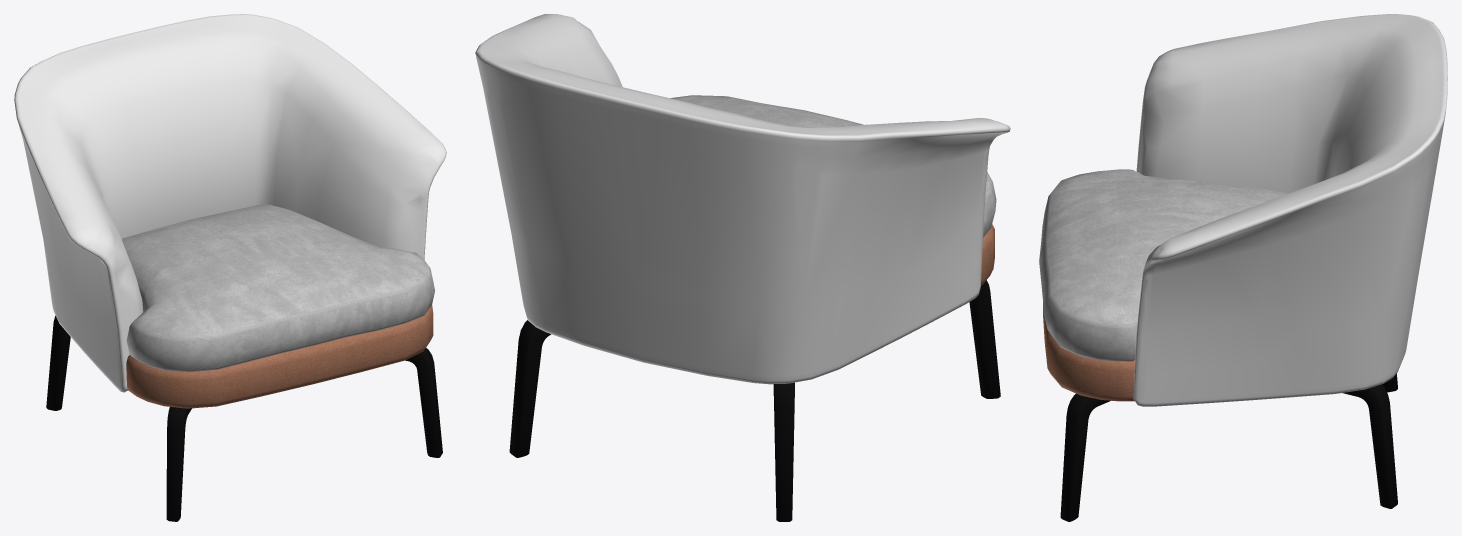
Rendered from single sofa.FBX.
3 renders of one model, left to right at view 1: azimuth 30°, elevation 25°; view 2: azimuth 150°, elevation 25°; view 3: azimuth 270°, elevation 25°, orthographic. The views are drawn at different scales.
Parts seen in each view (by area): view 1: 09, 10, 11, Object001; view 2: 09, Object001, 10, 11; view 3: 09, 10, Object001, 11.
Part boxes in pixels (x1,y1,x2,y2): 09: (14,14,446,392); 10: (121,204,434,372); 11: (126,305,433,408); Object001: (46,315,442,521); 09: (475,14,1010,384); Object001: (509,280,1000,521); 10: (670,95,996,237); 11: (981,224,994,285); 09: (1133,14,1447,406); 10: (1039,169,1288,361); Object001: (1060,373,1397,521); 11: (1043,303,1135,401).
Size of the model in its own units: 868 by 736 by 737.
Materials: 3 (2 with a texture image).
